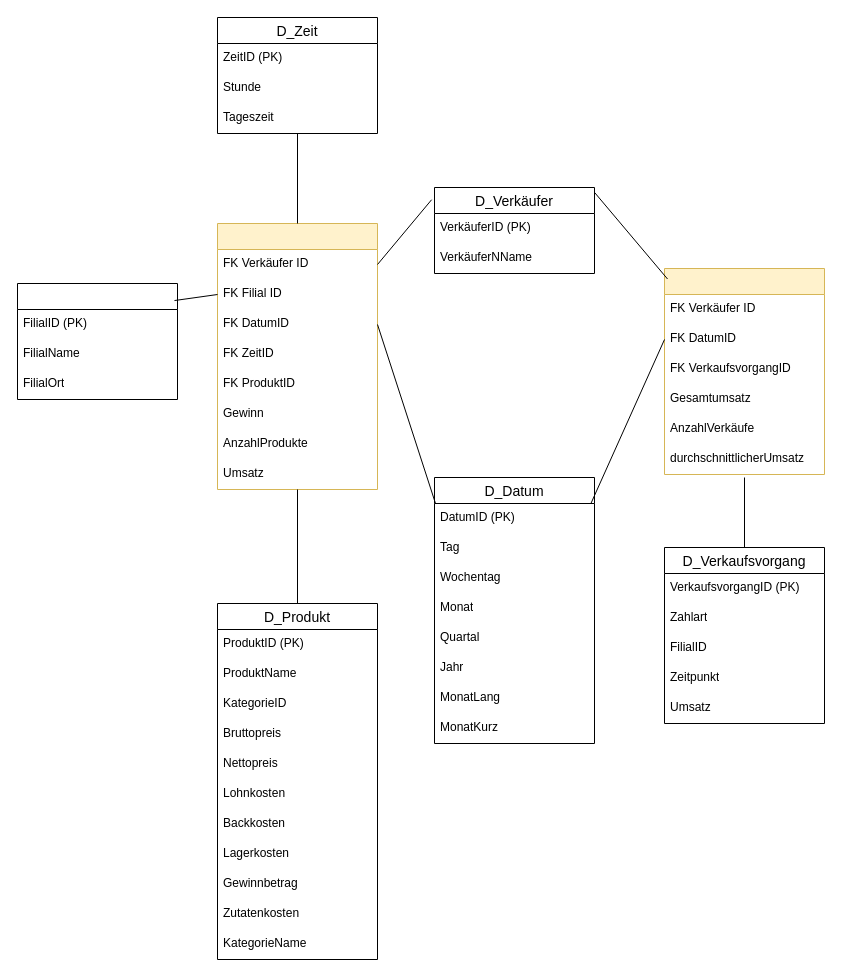
Image size: 842x980. Some labels were removed from this diagram. The box of each missing label's shape, as (x1, y1, x2, y2) in pixels:
D_Filiale: (16, 282, 178, 400)
F_Verkäufe: (216, 222, 378, 490)
F_Verkäuferumsatz: (664, 268, 824, 474)
